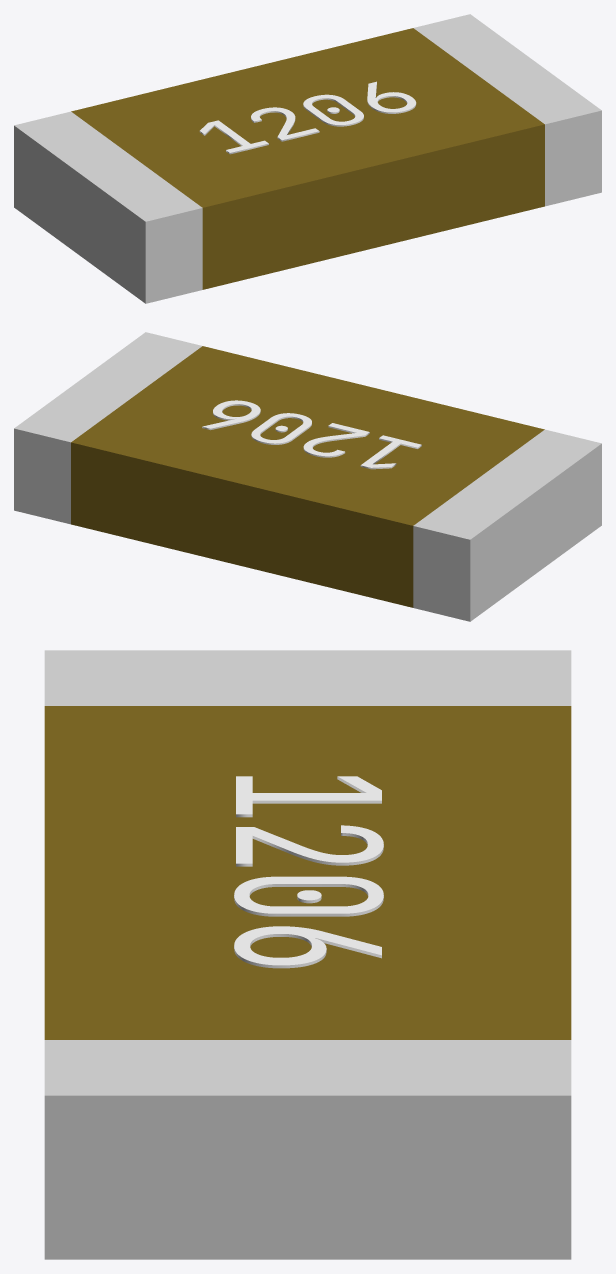
File: __mod__.glb
The picture shows the model from 3 angles, top to bottom: view 1: azimuth 30°, elevation 25°; view 2: azimuth 150°, elevation 25°; view 3: azimuth 270°, elevation 25°; orthographic projection. The views are drawn at different scales.
Visible parts, largest first — view 1: Plane; view 2: Plane; view 3: Plane.
Boxes of the visible parts, x1=… form: Plane: x1=14, y1=14, x2=601, y2=303; Plane: x1=14, y1=332, x2=601, y2=621; Plane: x1=44, y1=650, x2=571, y2=1259.
Bounding box in the file's own units: 0.0032 × 0.00056 × 0.0016.
